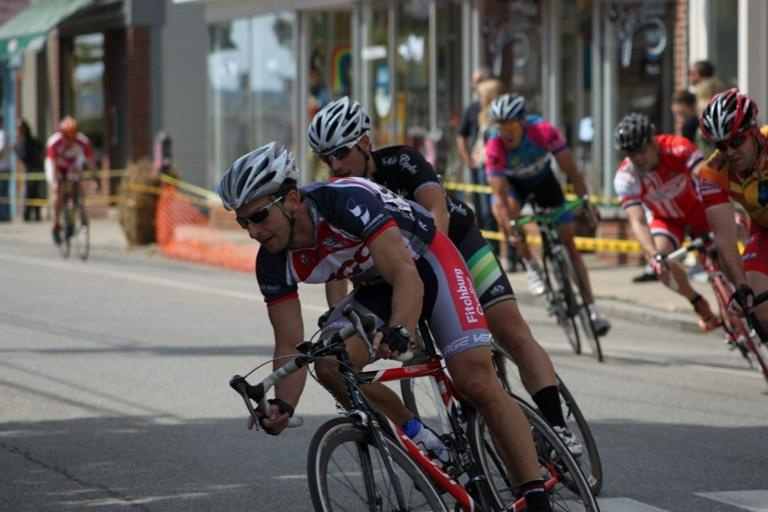non-vehicle: (229, 306, 598, 511), (374, 312, 606, 494), (649, 222, 766, 384), (505, 201, 611, 362), (49, 174, 103, 262), (728, 280, 766, 349)
